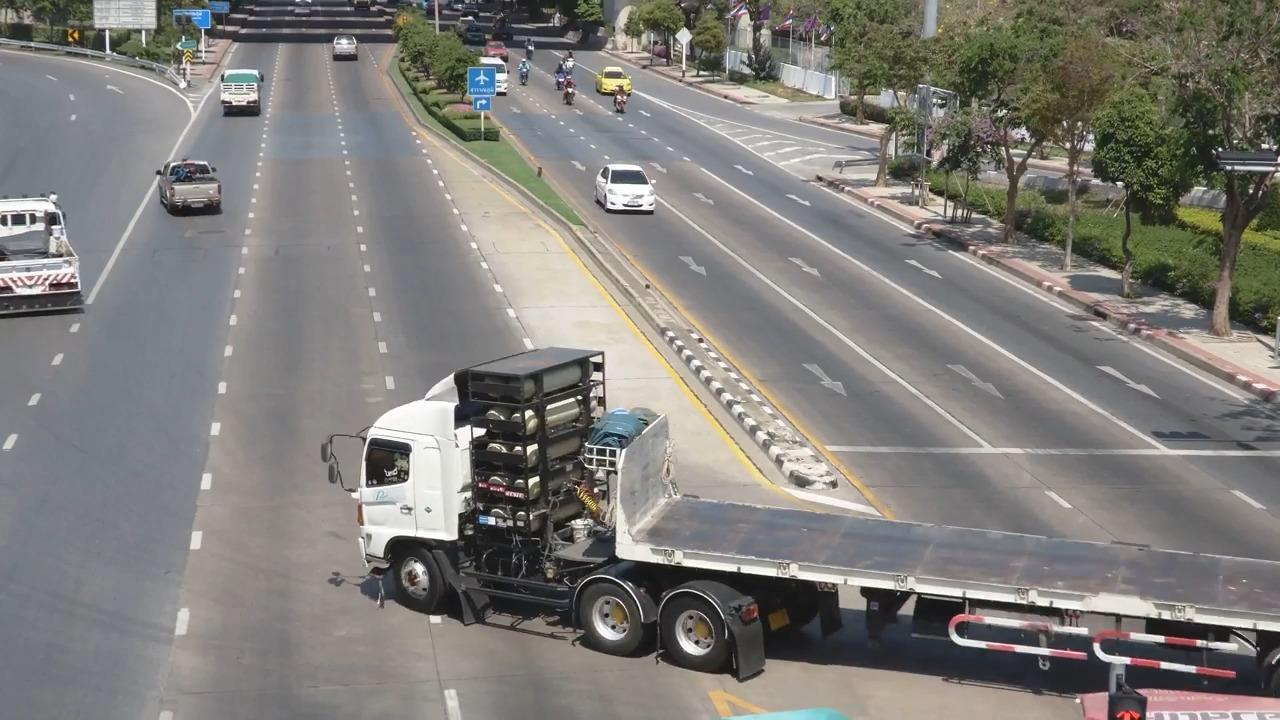CAR: (1, 179, 128, 322), (147, 147, 244, 225), (198, 49, 279, 130), (591, 150, 662, 225), (318, 27, 376, 71), (586, 56, 635, 98)
HGV_BUS: (288, 317, 1279, 720)
